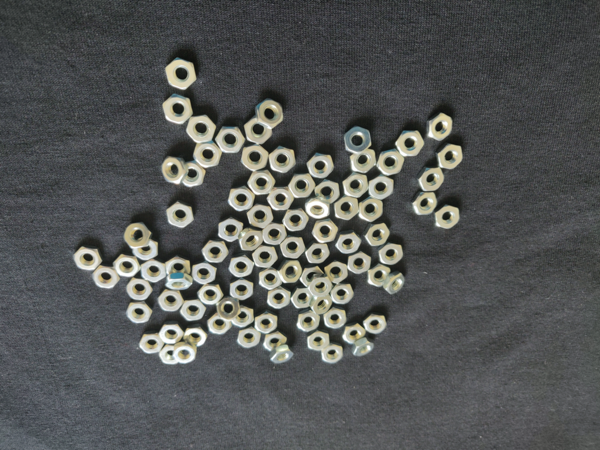nut: (165, 57, 197, 91), (215, 121, 246, 154), (162, 93, 192, 125), (123, 220, 152, 252), (186, 114, 215, 143), (256, 97, 282, 129), (269, 144, 297, 173), (344, 125, 372, 154), (357, 197, 387, 224), (139, 256, 169, 283), (437, 143, 465, 171), (227, 184, 254, 213), (278, 259, 305, 288), (167, 200, 193, 230), (375, 149, 405, 175), (396, 128, 423, 156), (343, 171, 371, 198), (246, 116, 272, 145), (193, 141, 222, 167), (306, 152, 335, 178), (125, 276, 154, 302), (228, 303, 257, 329), (163, 154, 188, 184), (429, 112, 454, 142), (332, 195, 359, 222), (436, 203, 462, 231), (252, 243, 278, 271), (336, 228, 362, 256), (226, 254, 255, 279), (124, 301, 154, 325), (246, 171, 276, 195), (350, 147, 377, 173), (342, 321, 368, 348), (416, 167, 444, 192), (216, 218, 244, 243), (312, 219, 340, 244), (228, 277, 256, 302), (265, 286, 293, 311), (281, 208, 310, 232), (304, 196, 333, 220), (239, 228, 265, 254), (217, 295, 243, 321), (93, 265, 120, 290), (241, 145, 268, 170), (140, 258, 167, 283), (166, 254, 191, 281), (278, 235, 305, 260), (181, 161, 205, 189), (413, 192, 441, 216), (368, 175, 396, 199), (291, 171, 315, 199), (255, 268, 284, 291), (248, 205, 274, 230), (268, 186, 294, 211), (73, 247, 100, 271), (114, 254, 141, 278), (378, 242, 405, 266), (315, 180, 342, 204), (135, 237, 162, 261), (363, 313, 390, 337), (305, 243, 333, 266), (235, 327, 263, 350), (261, 331, 289, 354), (263, 222, 288, 247), (159, 289, 184, 314), (180, 300, 206, 324), (205, 313, 231, 337), (366, 265, 392, 289), (296, 311, 323, 334), (196, 284, 224, 306), (139, 331, 163, 356), (231, 278, 256, 302), (202, 241, 228, 264), (192, 262, 218, 285), (157, 322, 183, 345), (292, 287, 315, 313), (329, 283, 355, 306), (165, 271, 196, 290), (253, 313, 281, 334), (309, 275, 334, 298), (299, 265, 324, 288), (172, 343, 198, 365), (348, 252, 374, 274), (159, 345, 184, 367), (183, 326, 208, 348), (269, 344, 294, 366), (307, 331, 333, 352), (324, 308, 350, 329), (353, 339, 377, 361), (385, 272, 407, 296), (320, 344, 344, 365)
